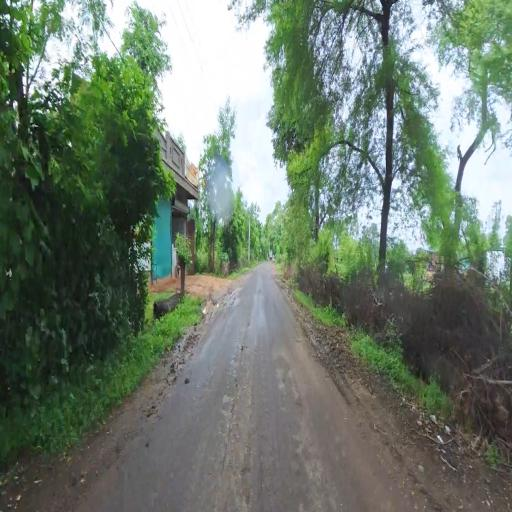ravelling: (213, 330, 273, 508)
